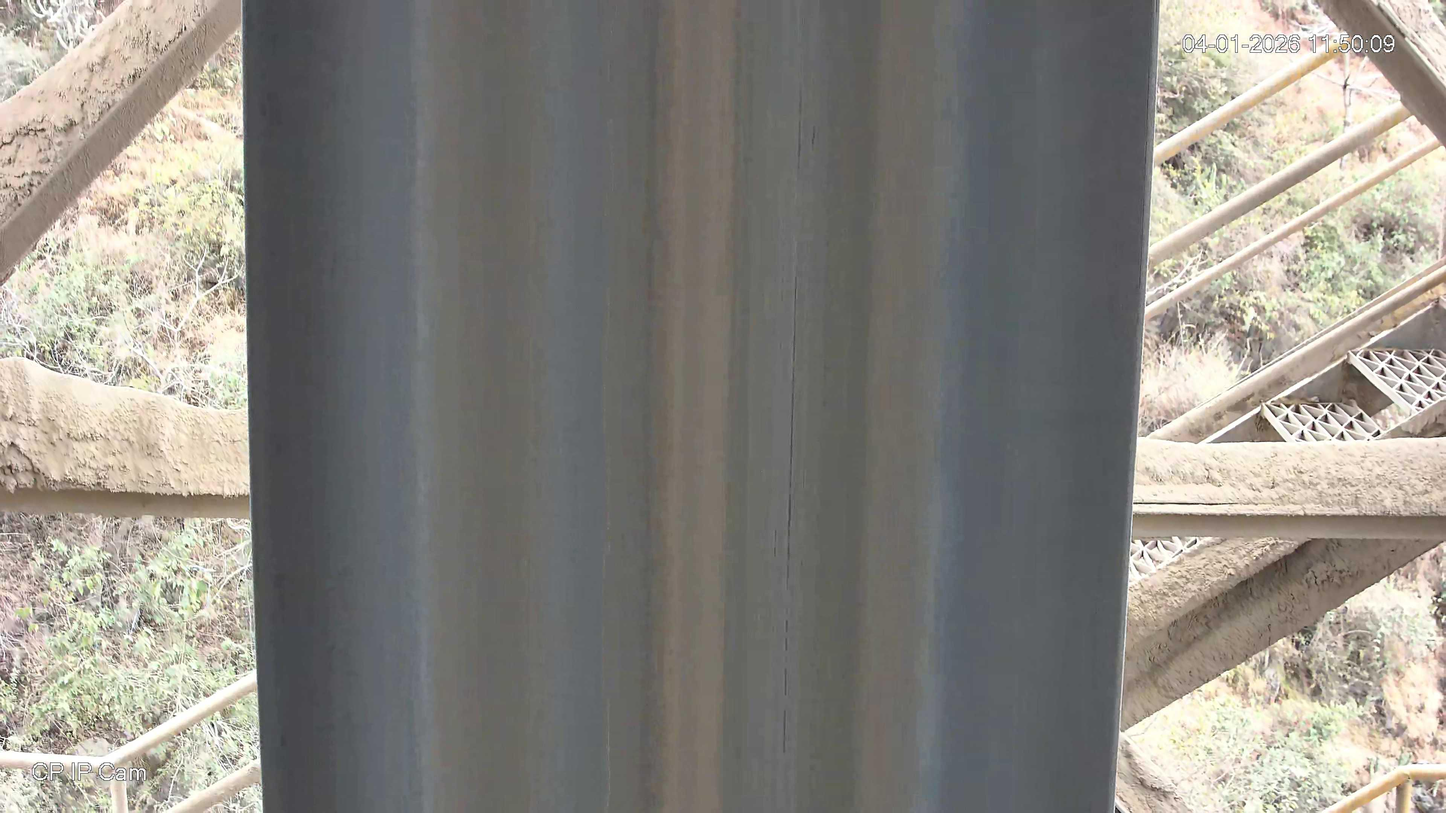belt_roi: (241, 0, 1157, 813)
